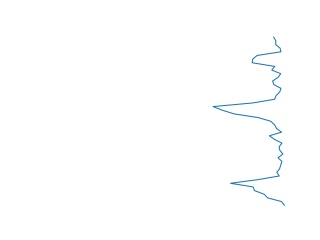underwaterNaturalLevee: (207, 35, 295, 209)
